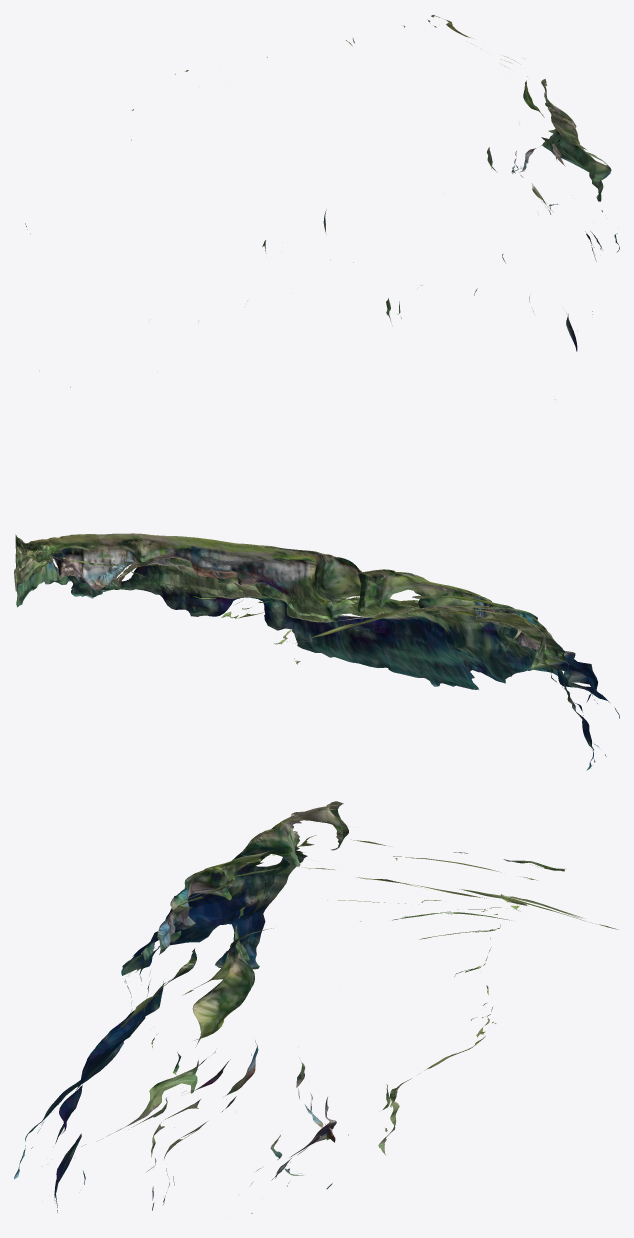
Rendered from render.glb.
The picture shows the model from 3 angles, top to bottom: view 1: azimuth 30°, elevation 25°; view 2: azimuth 150°, elevation 25°; view 3: azimuth 270°, elevation 25°; orthographic projection. The views are drawn at different scales.
Parts seen in each view (by area): view 1: geometry_0; view 2: geometry_0; view 3: geometry_0.
Boxes of the visible parts, x1=… form: geometry_0: x1=25, y1=15, x2=619, y2=387; geometry_0: x1=14, y1=533, x2=619, y2=770; geometry_0: x1=14, y1=801, x2=617, y2=1213.
Size of the model in its own units: 1.33 by 0.5563 by 1.09.
